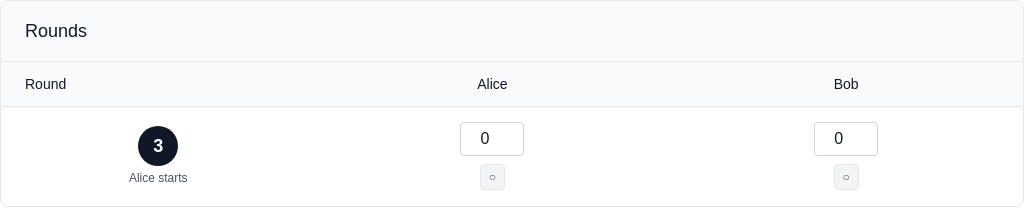
Test: RoundsTable › when rounds exist › clears input value on focus when value is 0
Focus on the input
Click the 1st number field showing "0". click: [492, 139]
box: x1=460 y1=122 x2=524 y2=156
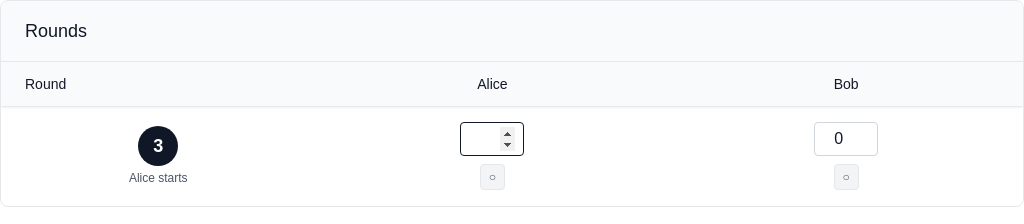
Expected: the 1st number field showing "0" is not empty, x1=460 y1=122 x2=524 y2=156
